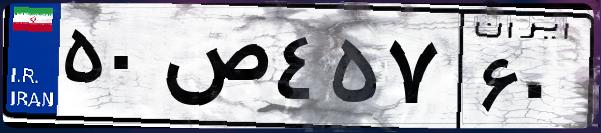0: (525, 38, 570, 115), (110, 28, 158, 98)
4: (270, 28, 330, 110)
5: (330, 28, 385, 110), (57, 26, 110, 100)
6: (475, 38, 525, 113)
7: (385, 28, 445, 110)
ص: (158, 20, 270, 120)
